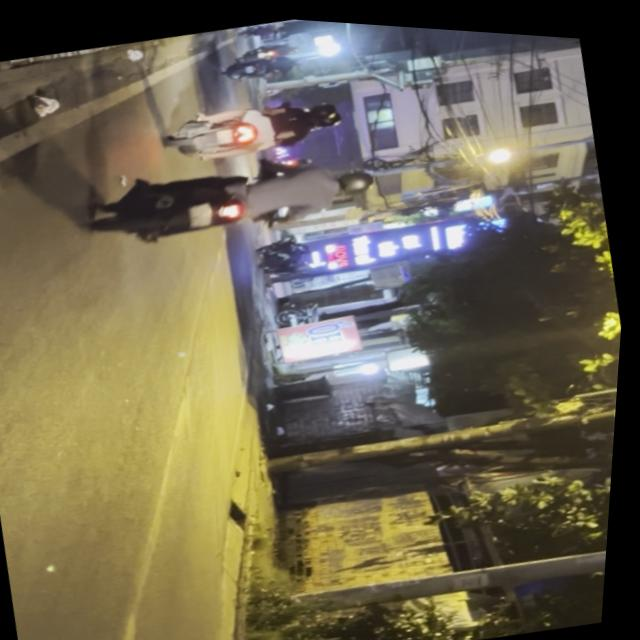helmet: (335, 160, 381, 192)
licenseplate: (87, 123, 388, 267)
nohelmet: (188, 196, 218, 226)
